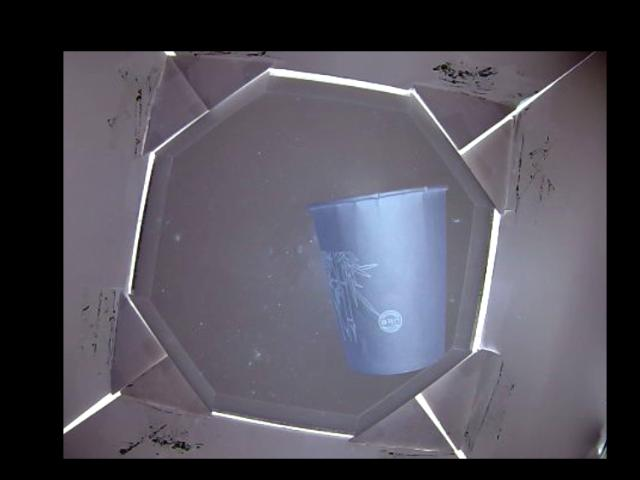Cup: (310, 185, 448, 373)
